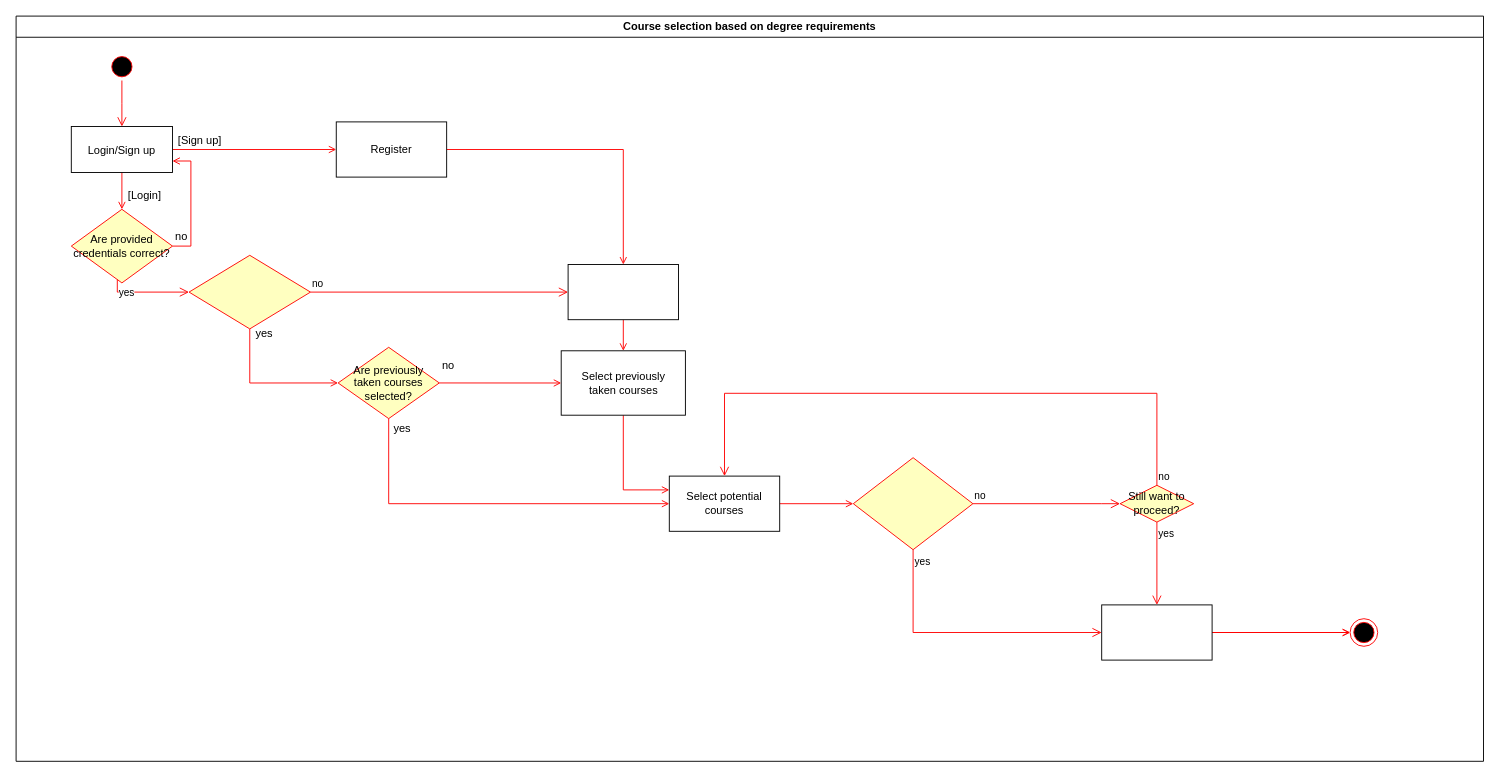
Some shapes in this 1500 by 777 pixel diagram are drawn without their labels. Each missing label, with the centre of its shape:
"Degree selection" goes at point (622, 292).
"Does each of these courses fulfill at least one degree requirement?" goes at point (912, 503).
"Enroll in selected courses" goes at point (1156, 632).
"Is the current degree set?" goes at point (249, 291).
